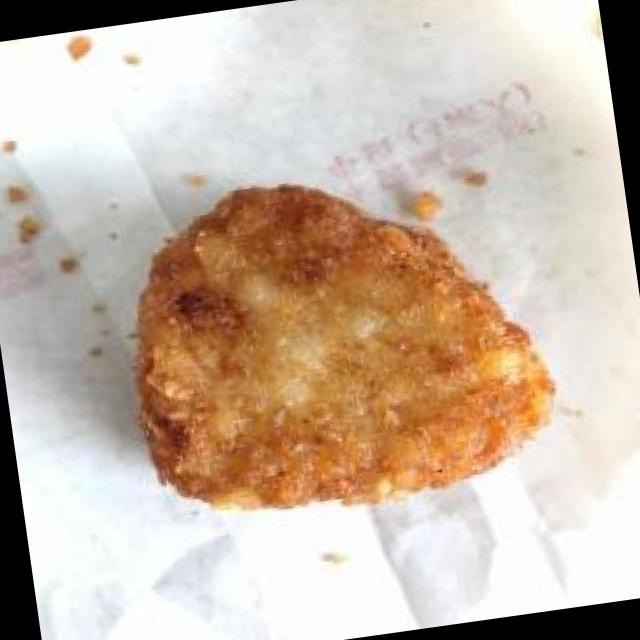triangle_hash_brown: (101, 144, 577, 539)
